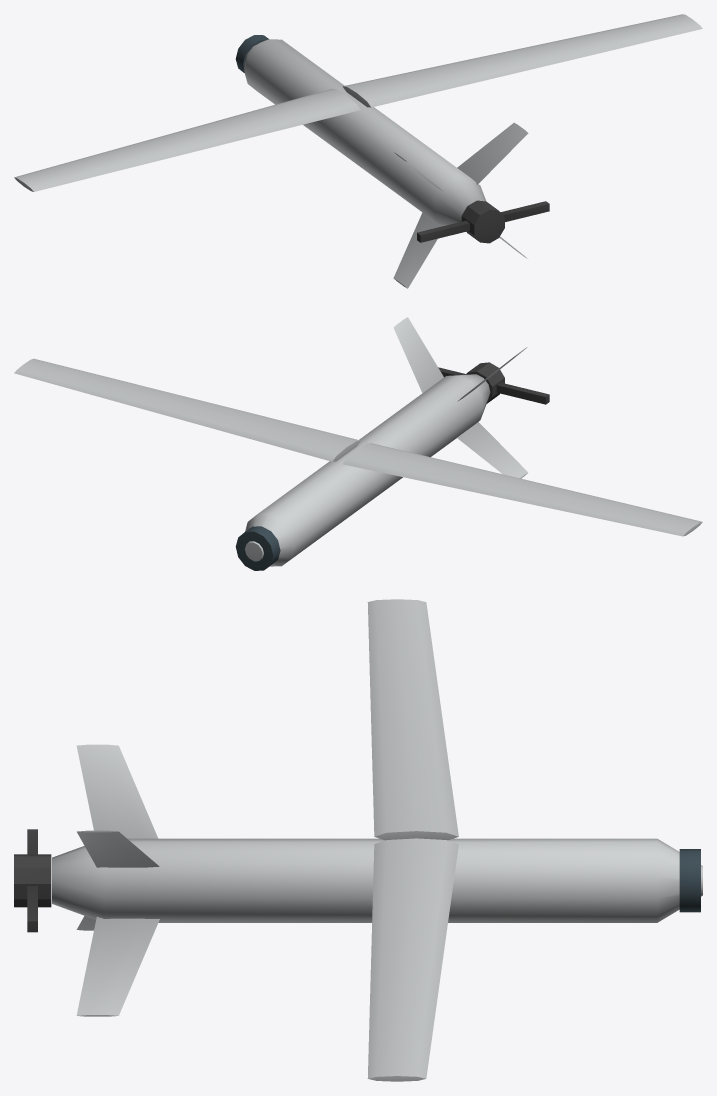
Rendered from usa_lm_alt700.glb.
3 views of the same model, one above another, from view 1: azimuth 30°, elevation 25°; view 2: azimuth 150°, elevation 25°; view 3: azimuth 270°, elevation 25° (orthographic). The views are drawn at different scales.
Parts seen in each view (by area): view 1: body, propy_0; view 2: body, propy_0; view 3: body, propy_0.
Boxes of the visible parts, <box> form: body: <box>14,14,702,288</box>; propy_0: <box>417,200,549,243</box>; body: <box>14,317,702,570</box>; propy_0: <box>438,362,549,404</box>; body: <box>52,599,702,1081</box>; propy_0: <box>14,829,51,932</box>.
Bounding box in the file's own units: 2.6 × 0.4731 × 1.59.
